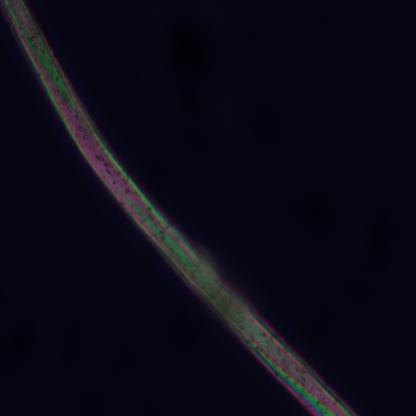Microfibre: (4, 0, 356, 416)
